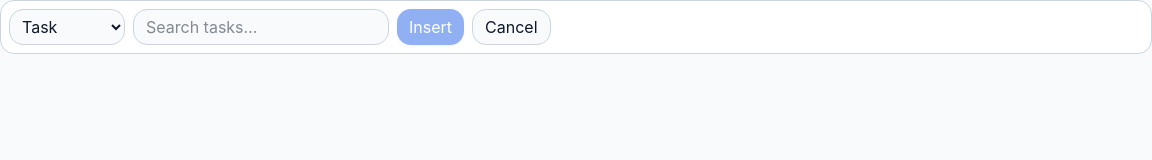
Test: WhiteboardLinkPicker › searches only tasks by default and disables Insert until a result is picked
The width and height of the screenshot is (1152, 160).
Expected: the button "Insert" is disabled, [397,9,464,45]
Step 1. Type "ship" into the dropdown with placeholder "Search tasks…" → (261, 27), box [133,9,389,45]
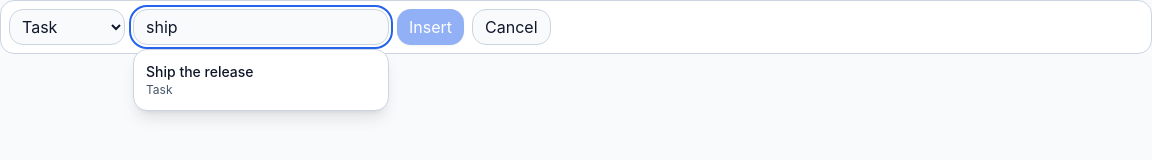
Result: the text "Ship the release" is shown
Step 2. Click the text "Ship the release" → (200, 72), box [146,62,254,82]
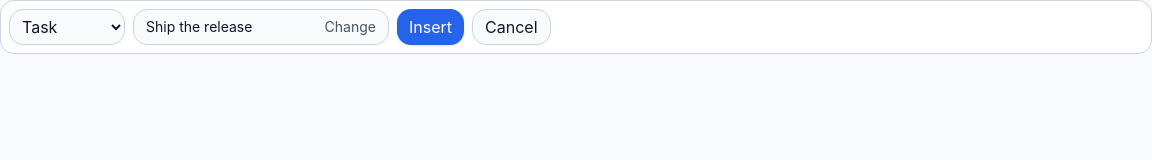
Result: the button "Insert" is enabled at [397,9,464,45]
